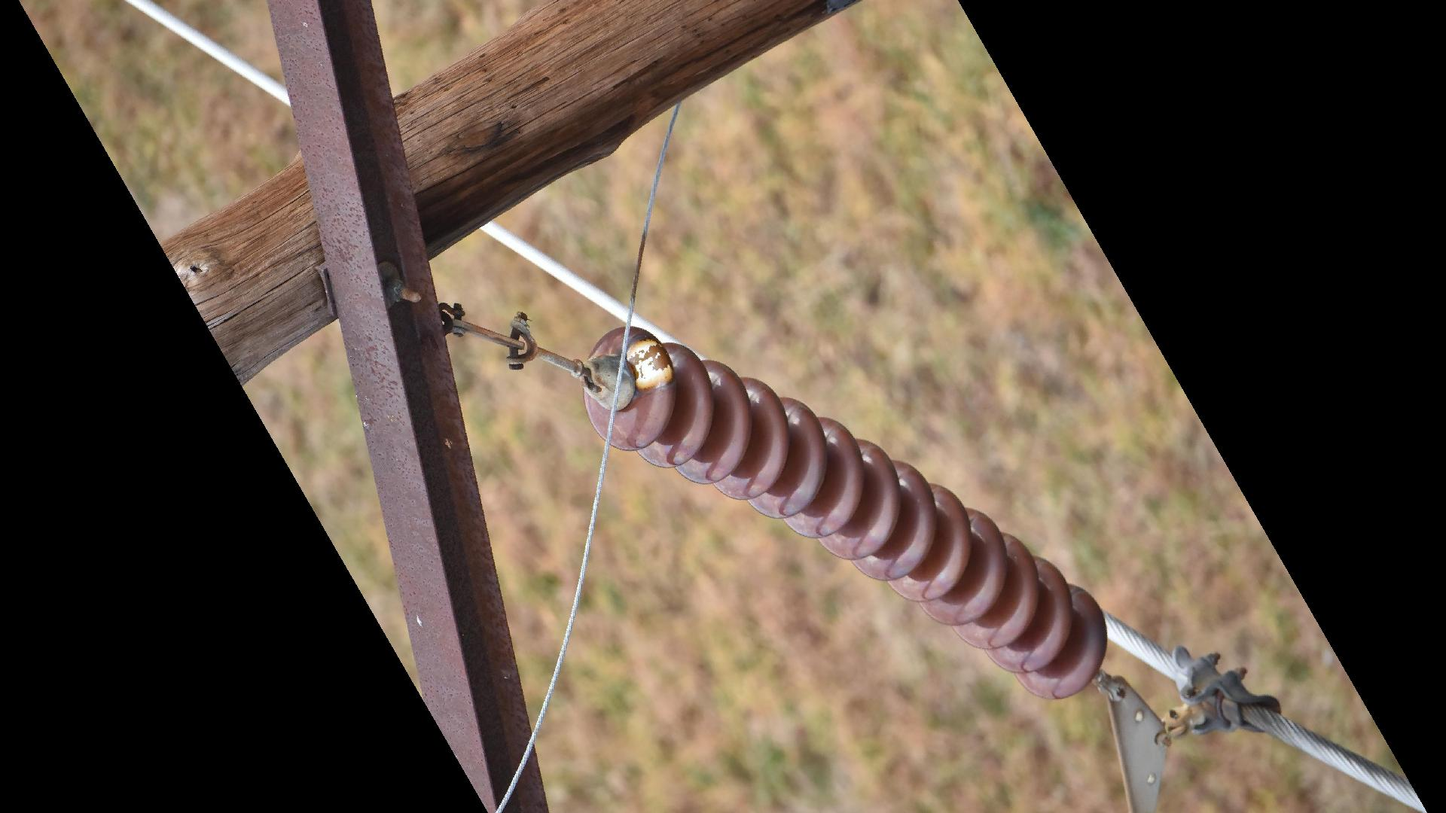insulator: (578, 324, 1114, 704)
insulator_flashover: (624, 335, 676, 393)
